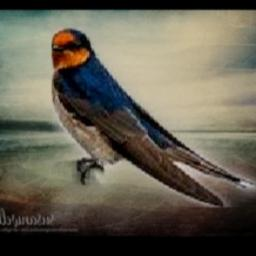Swallow: (50, 28, 256, 207)
